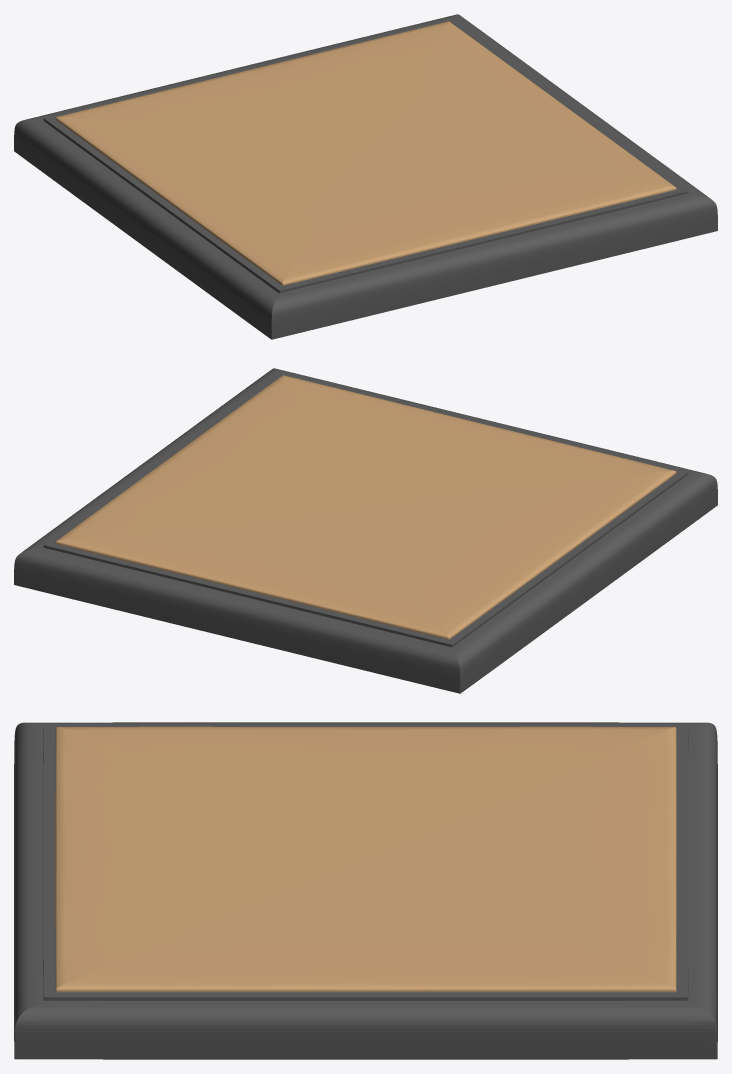
File: Tombol.fbx
3 views of the same model, one above another, from view 1: azimuth 30°, elevation 25°; view 2: azimuth 150°, elevation 25°; view 3: azimuth 270°, elevation 25° (orthographic). The views are drawn at different scales.
Visible parts, largest first — view 1: Cube.005, Cube; view 2: Cube.005, Cube; view 3: Cube.005, Cube.
Boxes of the visible parts, box(x1,y1,x2,y2) form: Cube.005: box(55, 21, 676, 285); Cube: box(14, 14, 717, 339); Cube.005: box(55, 375, 676, 639); Cube: box(14, 368, 717, 693); Cube.005: box(55, 726, 676, 992); Cube: box(14, 722, 717, 1059).
Bounding box in the file's own units: 142 × 12.17 × 142.
